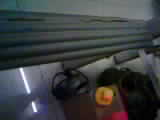duck: (86, 81, 116, 109)
